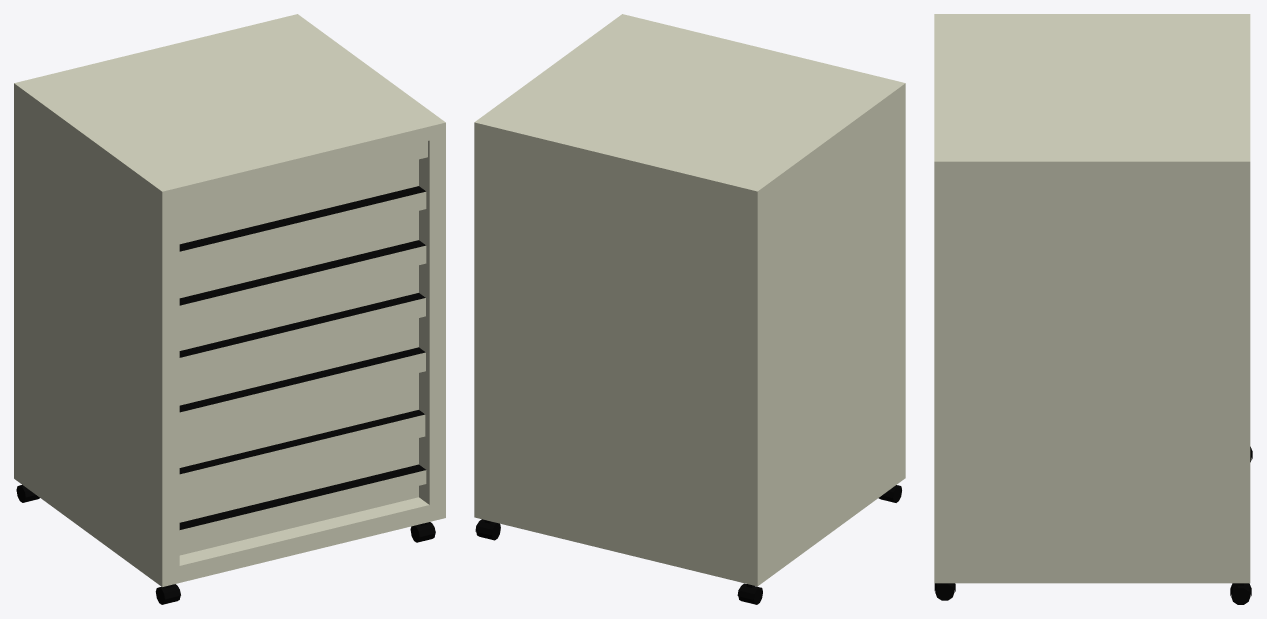
Rendered from armario optica.fbx.
The picture shows the model from 3 angles, left to right: view 1: azimuth 30°, elevation 25°; view 2: azimuth 150°, elevation 25°; view 3: azimuth 270°, elevation 25°; orthographic projection. The views are drawn at different scales.
Visible parts, largest first — view 1: Cube; view 2: Cube; view 3: Cube.
Part boxes in pixels (x1,y1,x2,y2): Cube: [14, 14, 445, 604]; Cube: [474, 14, 905, 604]; Cube: [934, 14, 1252, 604].
Bounding box in the file's own units: 845 × 1186 × 771.
